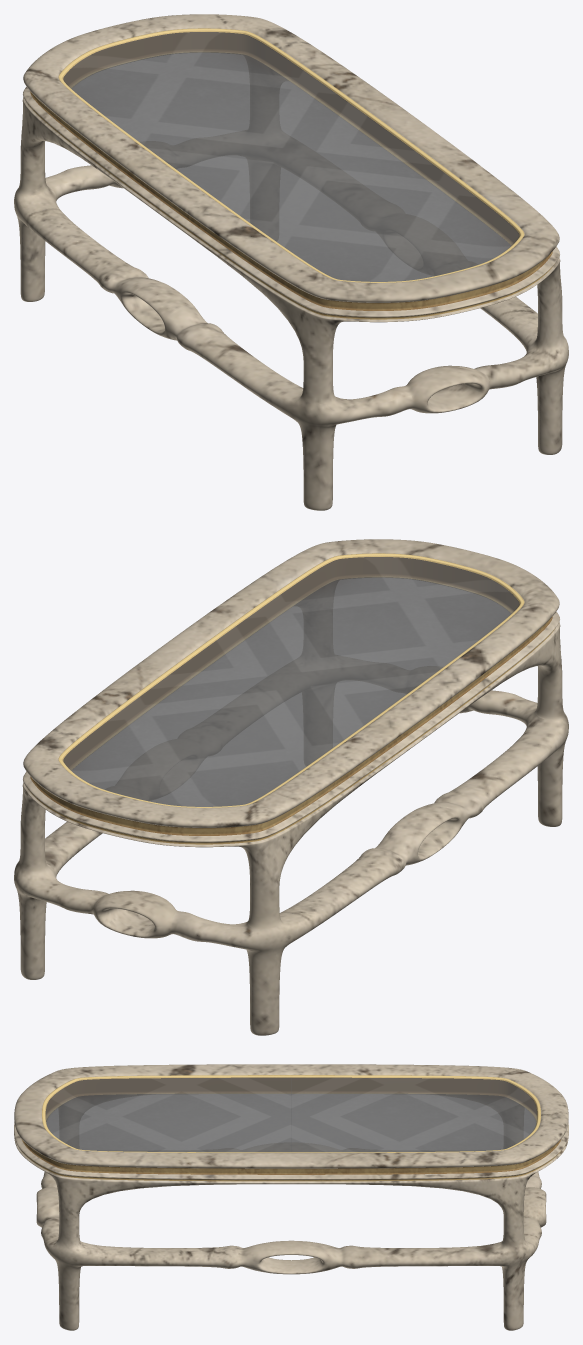
Rendered from fancy_marble_coffee_table.glb.
3 views of the same model, one above another, from view 1: azimuth 30°, elevation 25°; view 2: azimuth 150°, elevation 25°; view 3: azimuth 270°, elevation 25° (orthographic). The views are drawn at different scales.
Parts seen in each view (by area): view 1: CoffeeTable; view 2: CoffeeTable; view 3: CoffeeTable.
Boxes of the visible parts, x1,y1,x2,y2 form: CoffeeTable: (14,14,568,510); CoffeeTable: (14,539,568,1035); CoffeeTable: (14,1064,568,1330).
Bounding box in the file's own units: 1.02 × 0.7115 × 2.1.
Materials: 3 (3 with a texture image).
